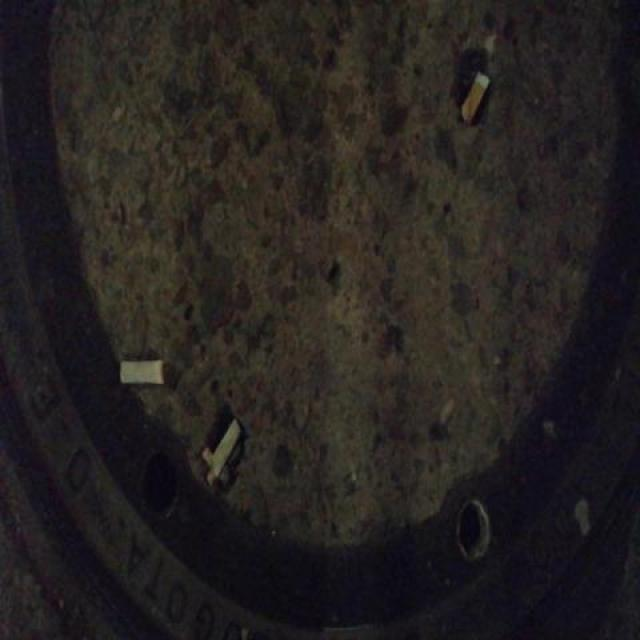non-organic waste: (208, 416, 244, 484), (457, 66, 494, 130), (115, 356, 169, 388)
